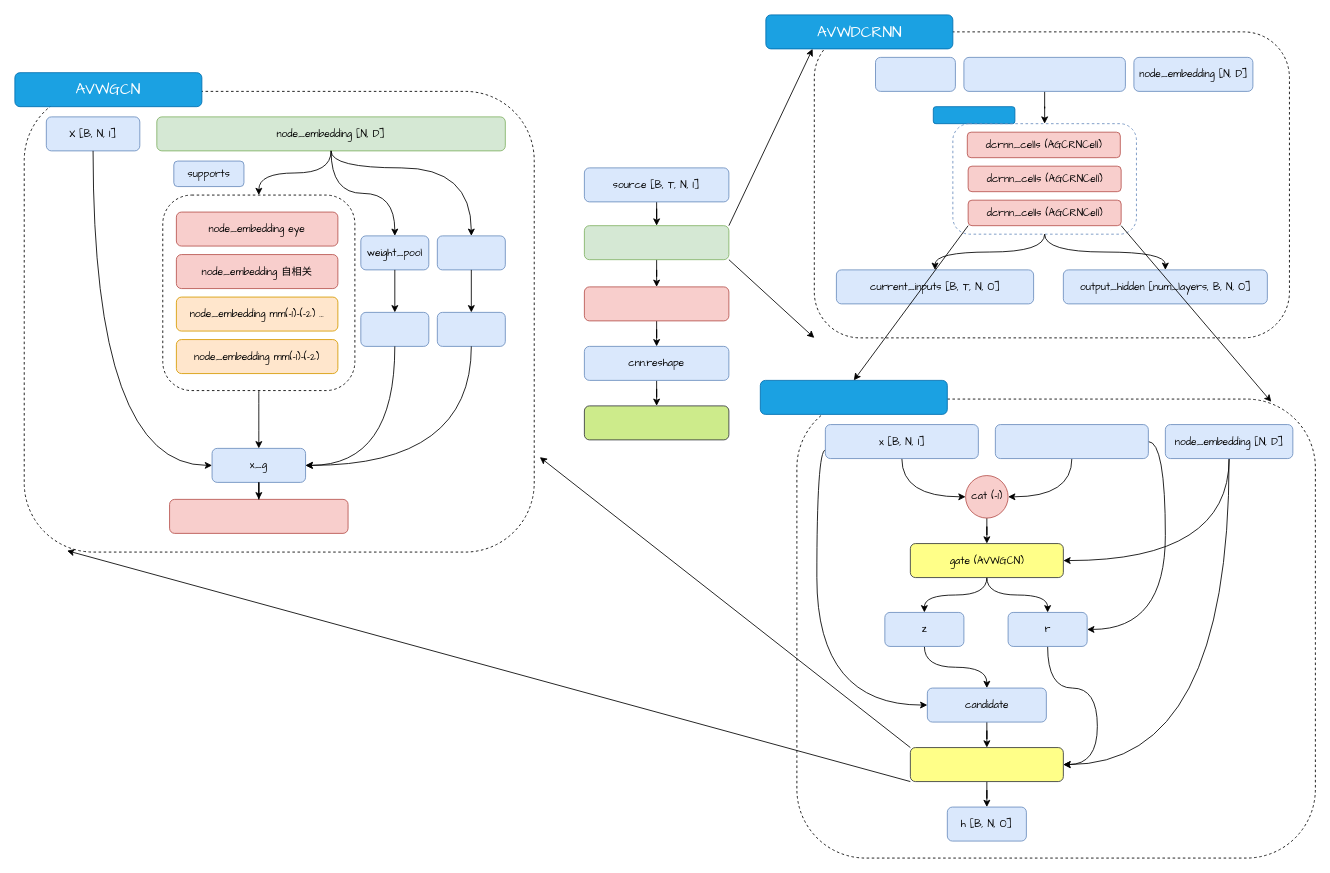
Some shapes in this 1330 by 873 pixel diagram are drawn without their labels. The shapes that lost their labels are listed below. From the top down, each one's box as (x1, y1, x2, y2) in pixels, then its label:
(875, 57, 955, 91): x [B, T, N, I]
(963, 57, 1125, 91): init_state [num_layers, B, N, O]
(932, 106, 1015, 124): num_laysers × T
(436, 235, 505, 270): bias_pool
(584, 225, 729, 260): encoder (AVWDCRNN)
(584, 286, 729, 321): cnn
(360, 312, 429, 346): weight
(436, 312, 505, 346): bias
(759, 380, 947, 414): AGCRNCell
(584, 405, 729, 440): output [B, T, N, O]
(994, 424, 1148, 459): state [B, N, O]
(169, 499, 348, 533): x_gconv [B, N, O]
(910, 747, 1063, 782): update (AVWGCN)
